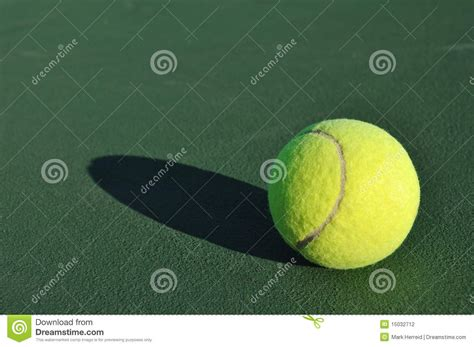tennis_ball: (266, 117, 422, 271)
